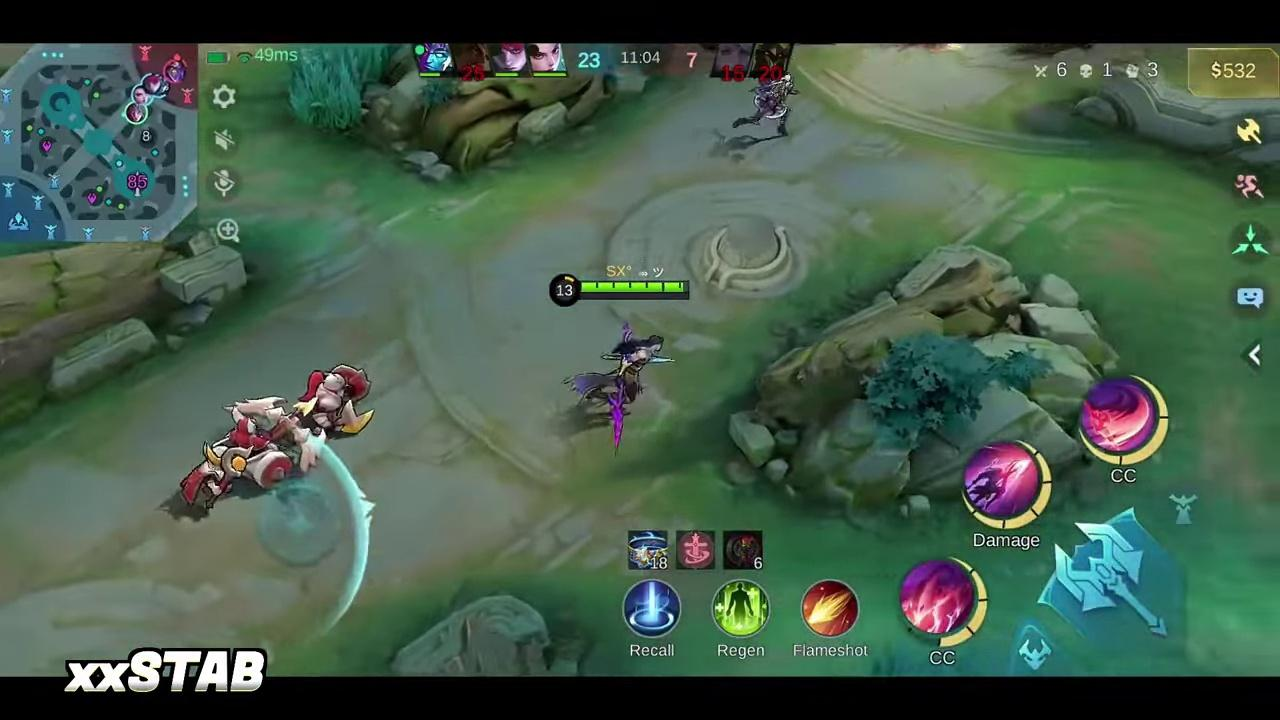bush: (292, 43, 419, 129)
hp_self: (579, 282, 686, 292)
minion_ally: (182, 395, 323, 505), (294, 365, 369, 431)
